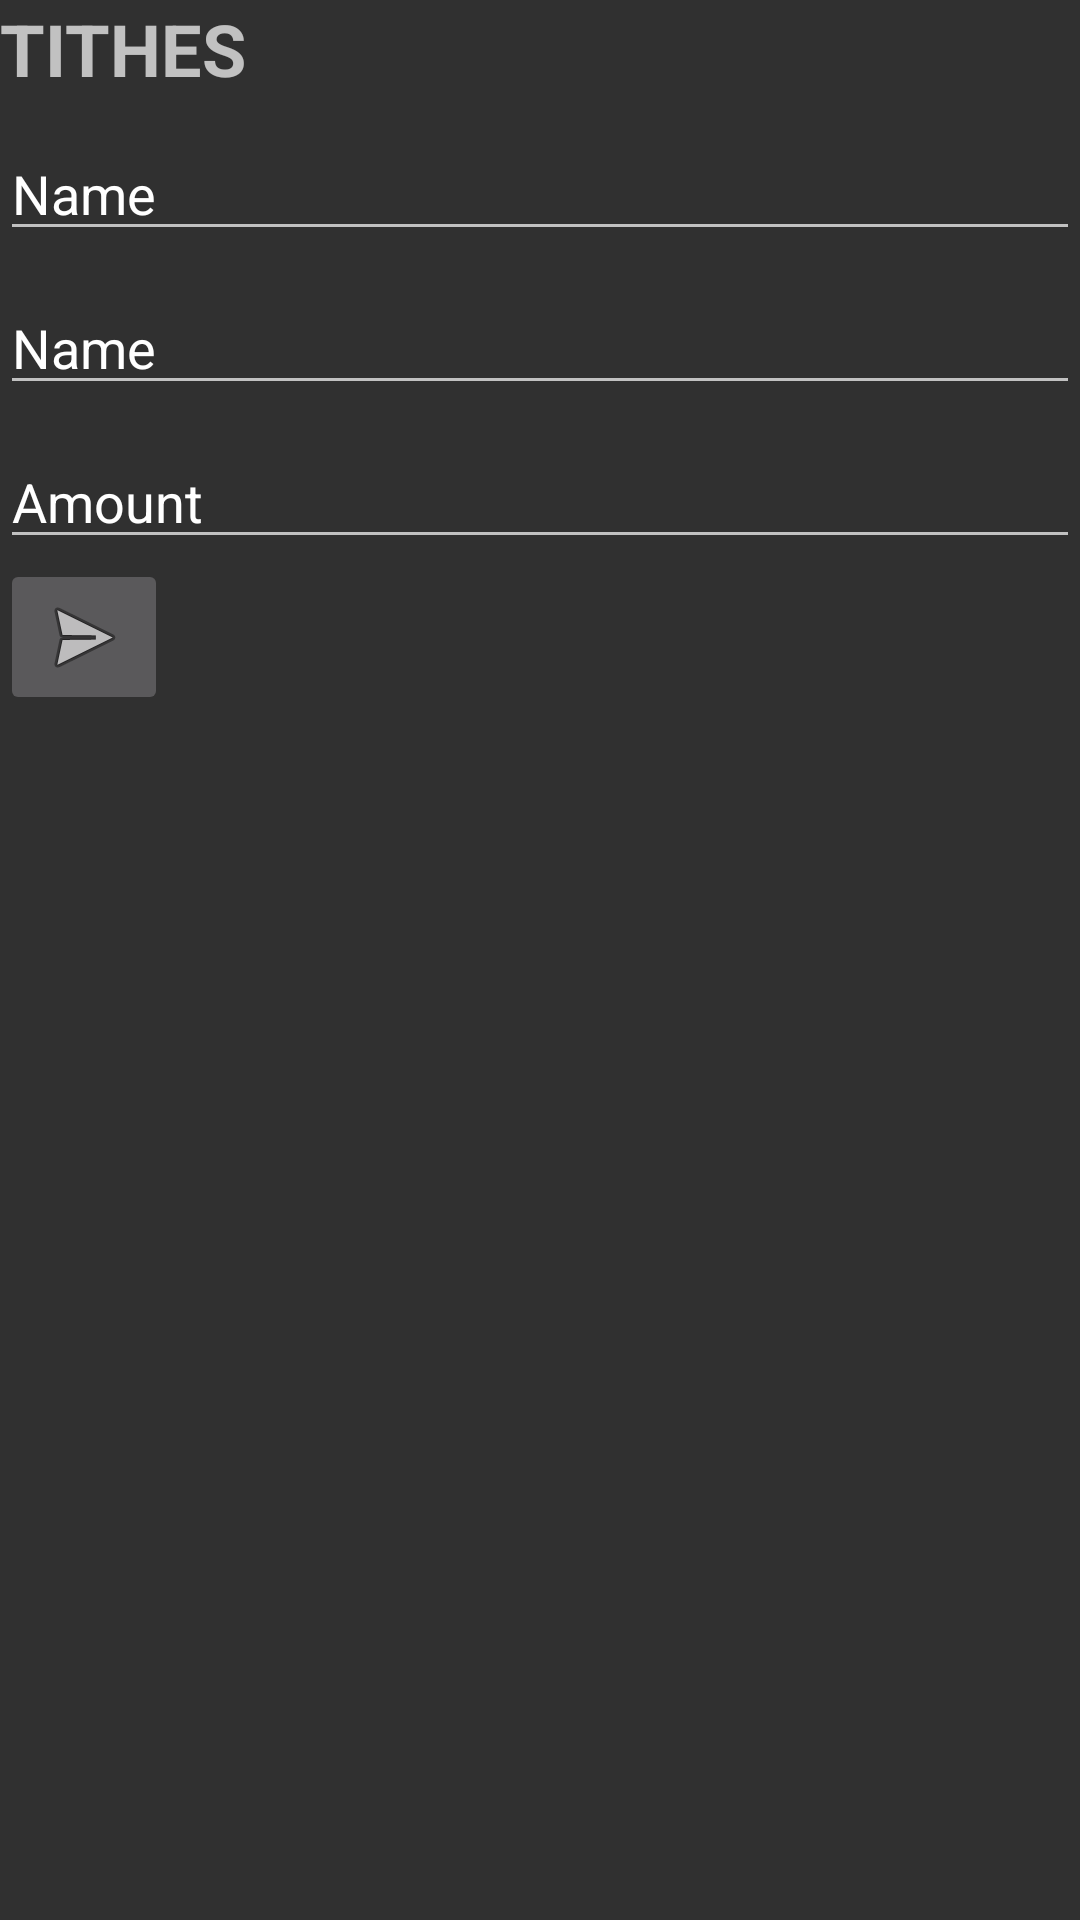

Screen size 1080*1920. Icon name, then its center in pixels as [x,y]:
send: [84,637]
